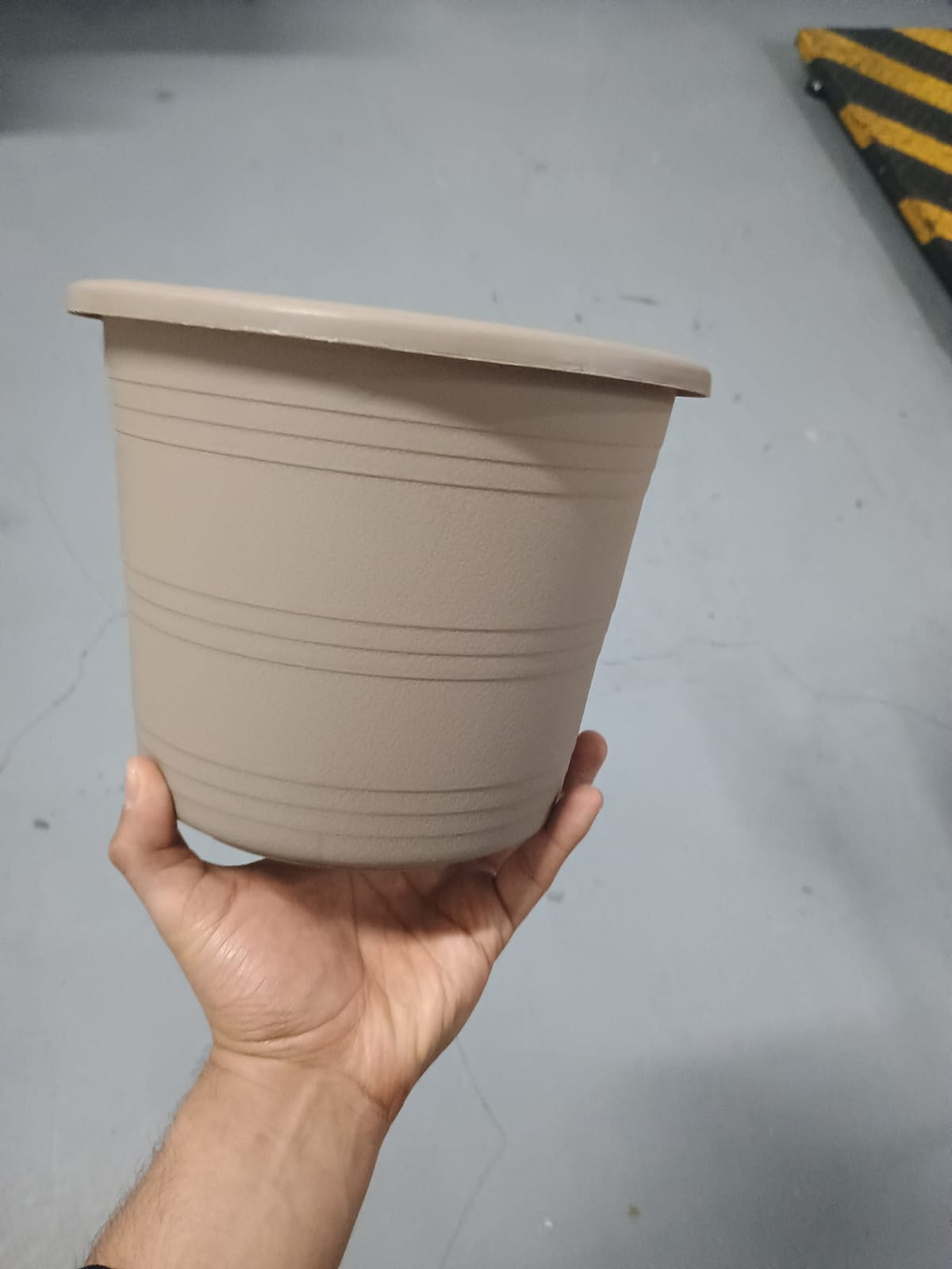Plastico: (62, 278, 717, 862)
